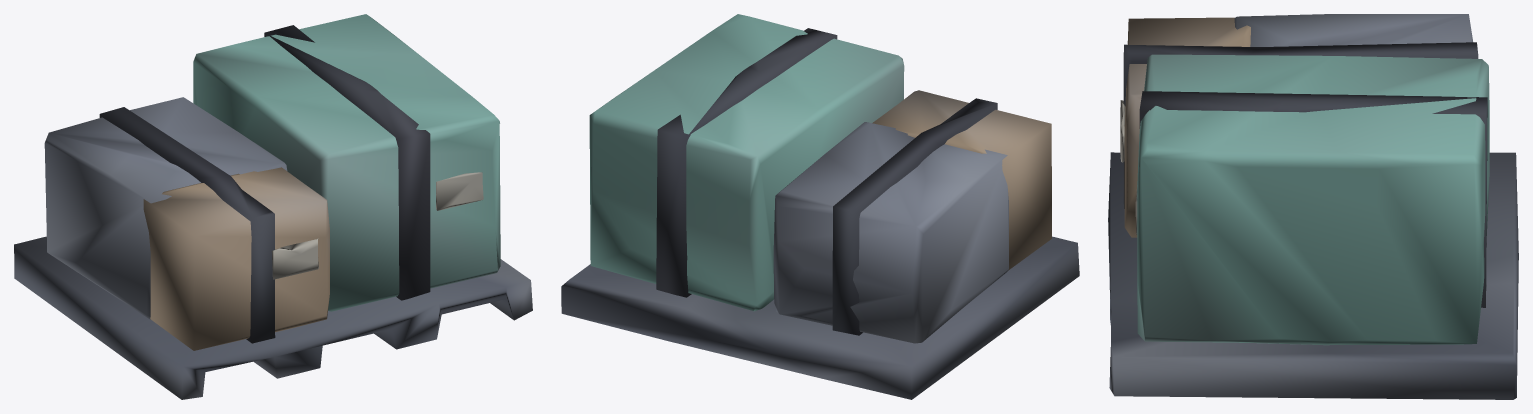
The model's file is bay_pallet_c.glb.
3 views of the same model, side by side, from view 1: azimuth 30°, elevation 25°; view 2: azimuth 150°, elevation 25°; view 3: azimuth 270°, elevation 25° (orthographic). The views are drawn at different scales.
Visible parts, largest first — view 1: pallet; view 2: pallet; view 3: pallet.
Part boxes in pixels (box(x1,y1,x2,y2)): pallet: box(14, 14, 532, 399); pallet: box(561, 14, 1079, 399); pallet: box(1108, 14, 1518, 399).
Size of the model in its own units: 1.2 by 0.646 by 1.
